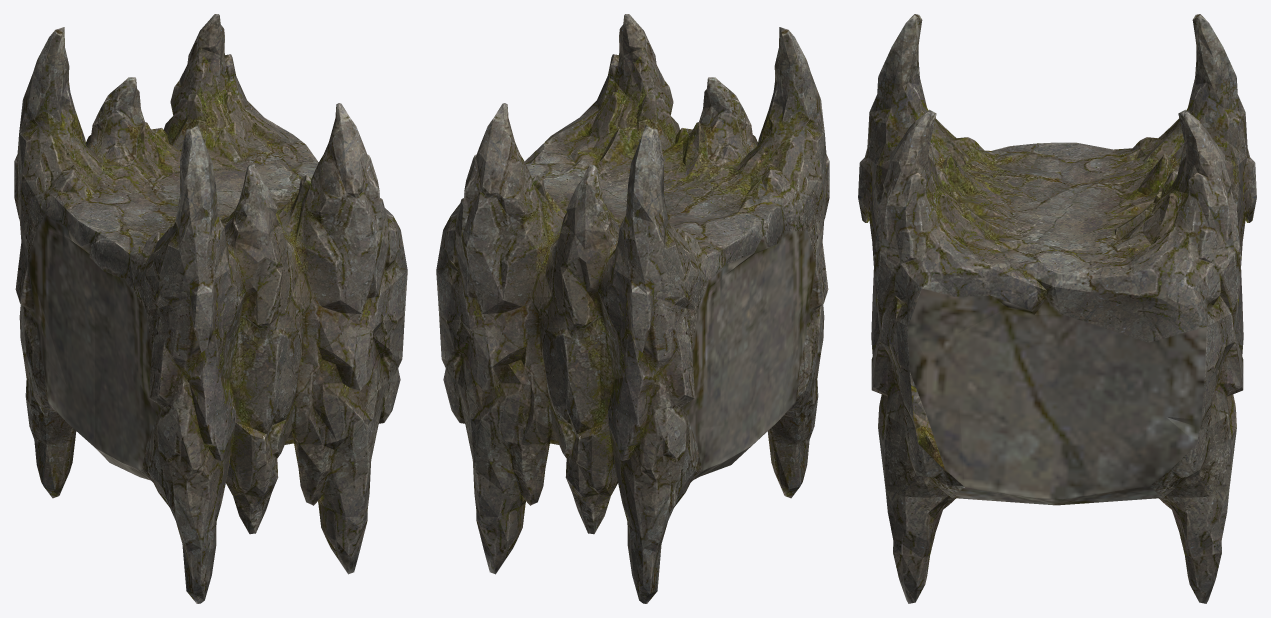
Rendered from bg_anh_mirrorv_dstair01_03_sm_old.FBX.
3 renders of one model, left to right at view 1: azimuth 30°, elevation 25°; view 2: azimuth 150°, elevation 25°; view 3: azimuth 270°, elevation 25°, orthographic. The views are drawn at different scales.
Visible parts, largest first — view 1: bg_anh_mirrorv_dstair01_03_sm_old; view 2: bg_anh_mirrorv_dstair01_03_sm_old; view 3: bg_anh_mirrorv_dstair01_03_sm_old.
Boxes of the visible parts, x1=… form: bg_anh_mirrorv_dstair01_03_sm_old: x1=14, y1=14, x2=407, y2=603; bg_anh_mirrorv_dstair01_03_sm_old: x1=436, y1=14, x2=829, y2=603; bg_anh_mirrorv_dstair01_03_sm_old: x1=858, y1=14, x2=1256, y2=603.
Size of the model in its own units: 417 by 736 by 523.
